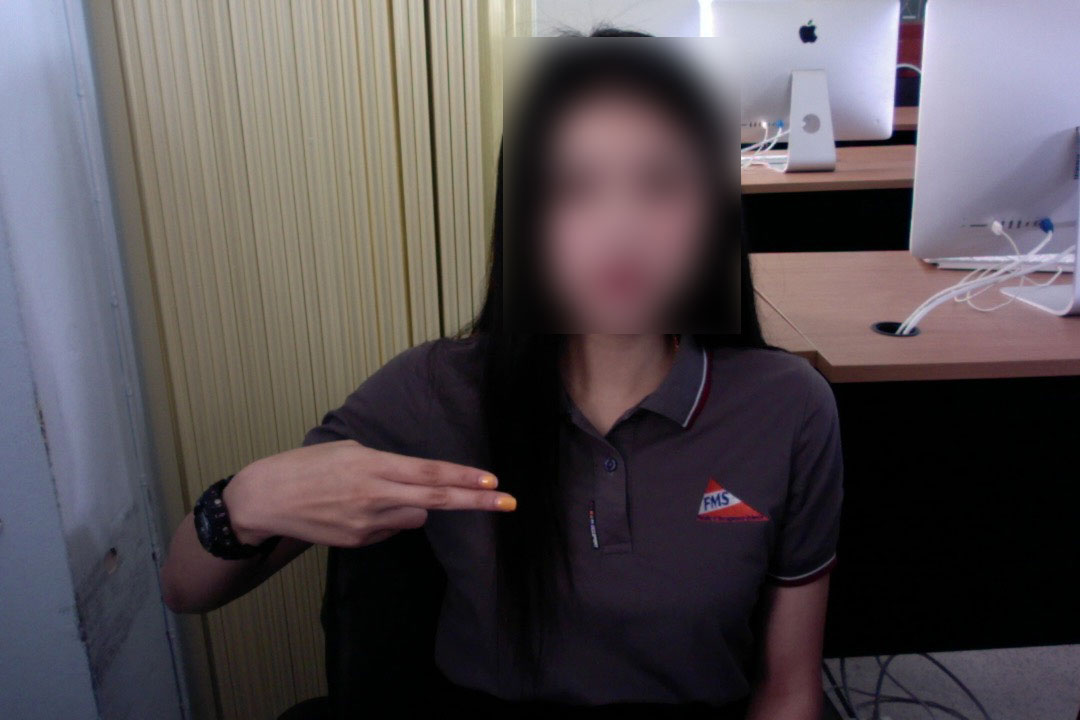hor: (227, 433, 519, 558)
